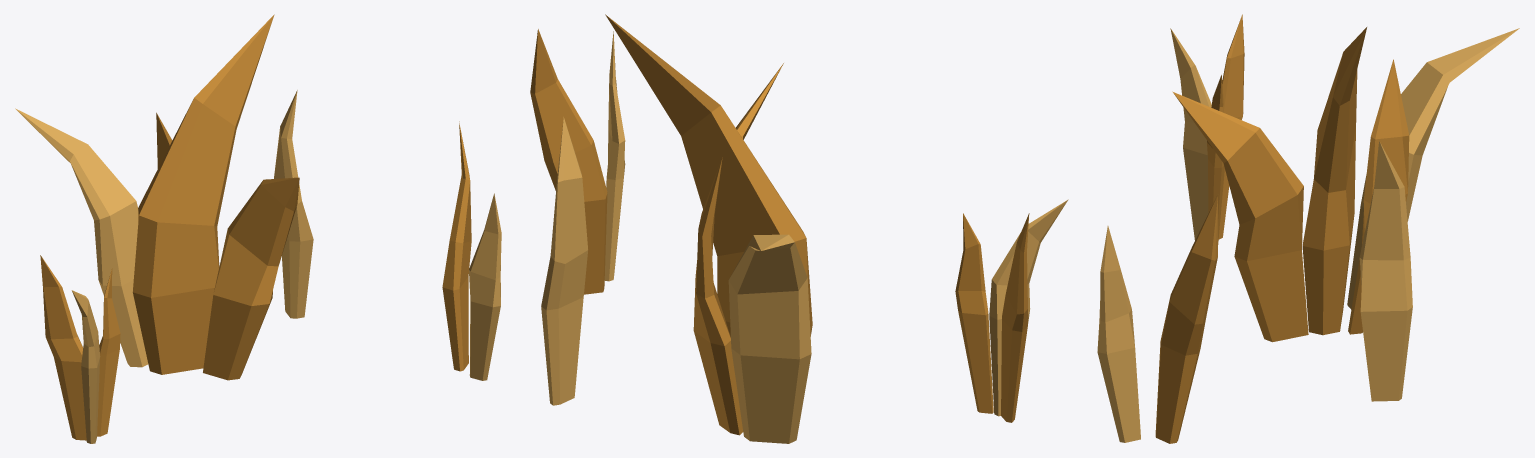
File: grass_3_brown.fbx
The picture shows the model from 3 angles, left to right: view 1: azimuth 30°, elevation 25°; view 2: azimuth 150°, elevation 25°; view 3: azimuth 270°, elevation 25°; orthographic projection. The views are drawn at different scales.
Parts seen in each view (by area): view 1: grass_3_brown; view 2: grass_3_brown; view 3: grass_3_brown.
Boxes of the visible parts, left/top/right/bottom form: grass_3_brown: left=15, top=14, right=501, bottom=443; grass_3_brown: left=530, top=14, right=1068, bottom=443; grass_3_brown: left=1097, top=14, right=1519, bottom=443.
Bounding box in the file's own units: 135 × 97.11 × 104.
